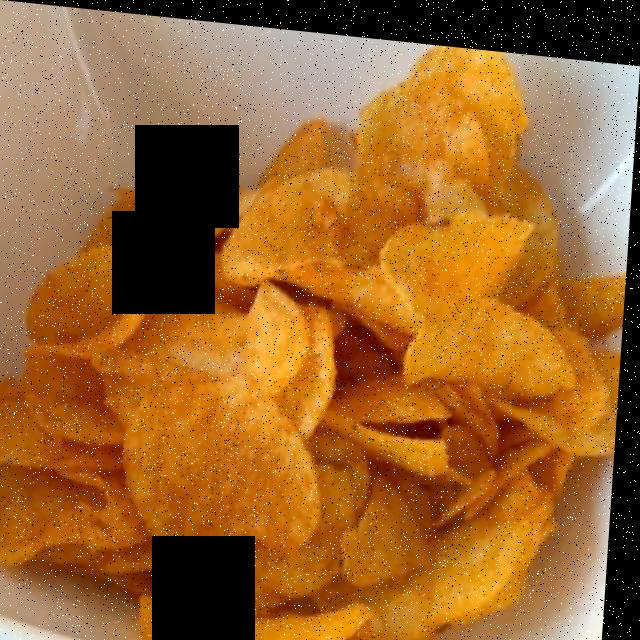paprika-chips: (0, 48, 618, 640)
